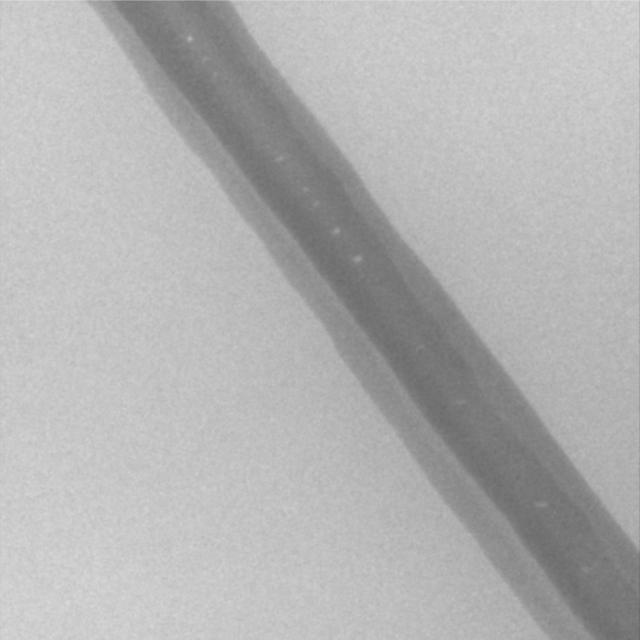air hole: (534, 499, 550, 509), (351, 255, 363, 264), (275, 155, 285, 165), (331, 228, 341, 236), (185, 36, 193, 44)
